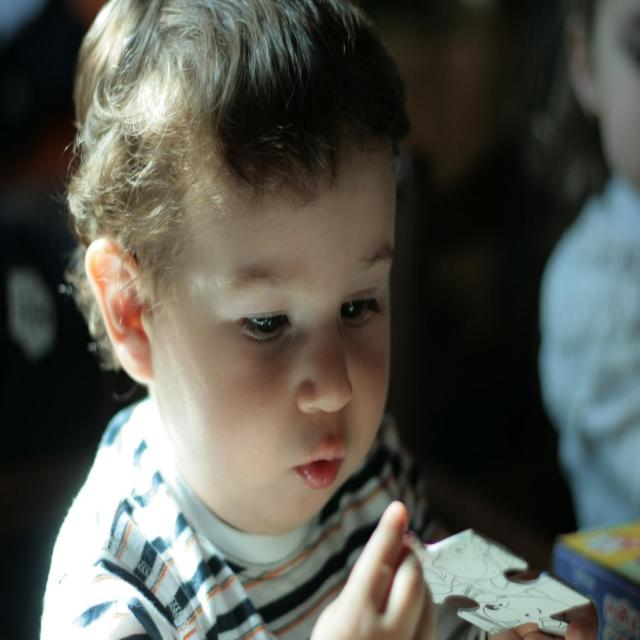no-glass: (227, 286, 380, 342)
